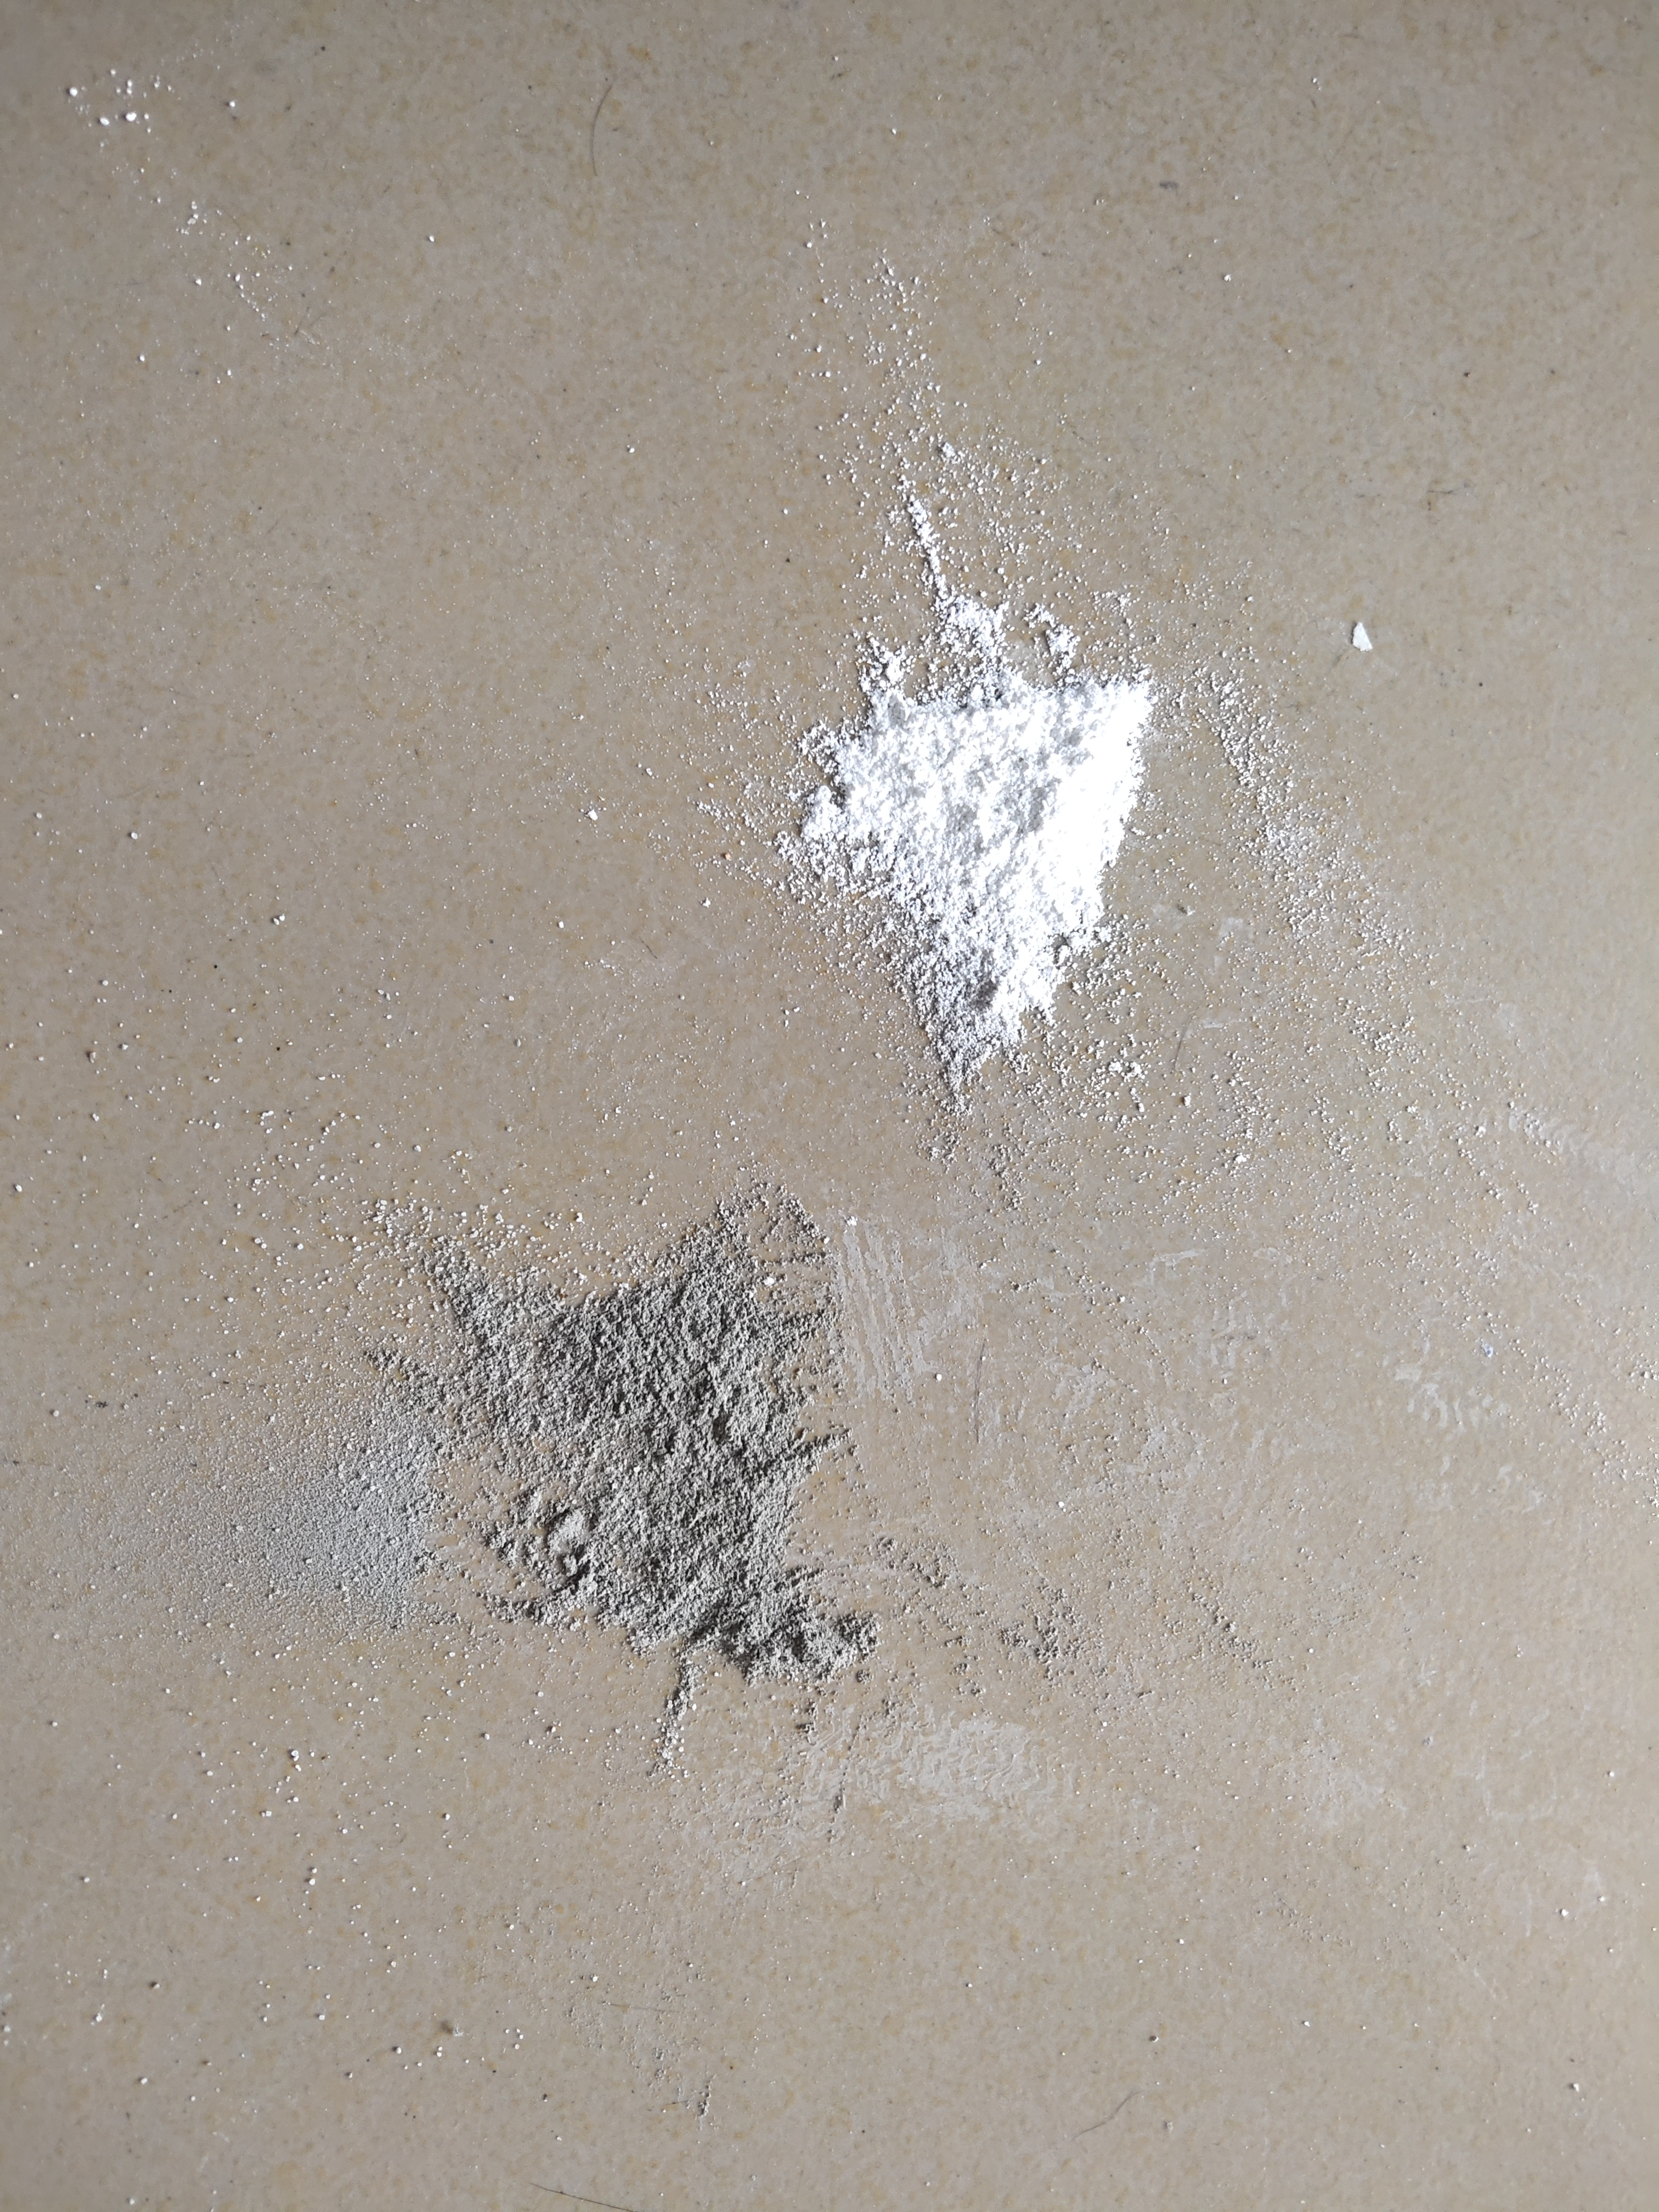ash pile: (260, 1191, 877, 1773), (704, 444, 1161, 1113)
